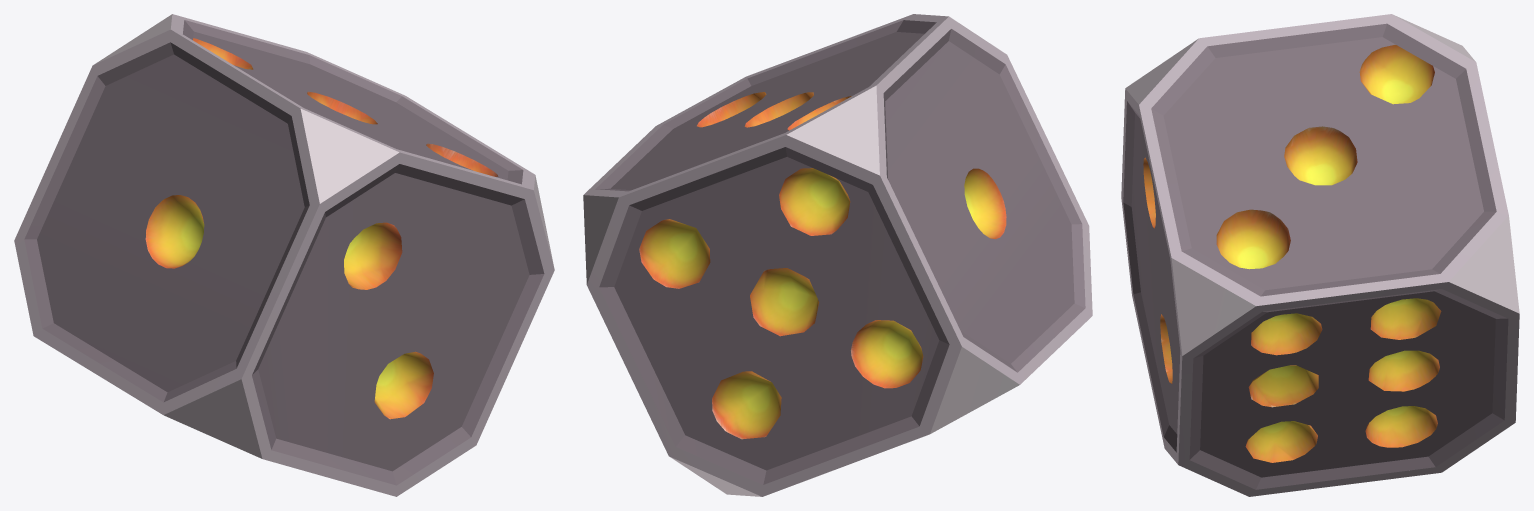
Rendered from Dice.fbx.
The picture shows the model from 3 angles, left to right: view 1: azimuth 30°, elevation 25°; view 2: azimuth 150°, elevation 25°; view 3: azimuth 270°, elevation 25°; orthographic projection. The views are drawn at different scales.
Visible parts, largest first — view 1: DICE; view 2: DICE; view 3: DICE.
Boxes of the visible parts, x1,y1,x2,y2 form: DICE: (14,14,554,496); DICE: (583,14,1092,496); DICE: (1121,14,1519,496).
Bounding box in the file's own units: 0.4768 × 0.4557 × 0.3991.
1 material, 1 textured.
